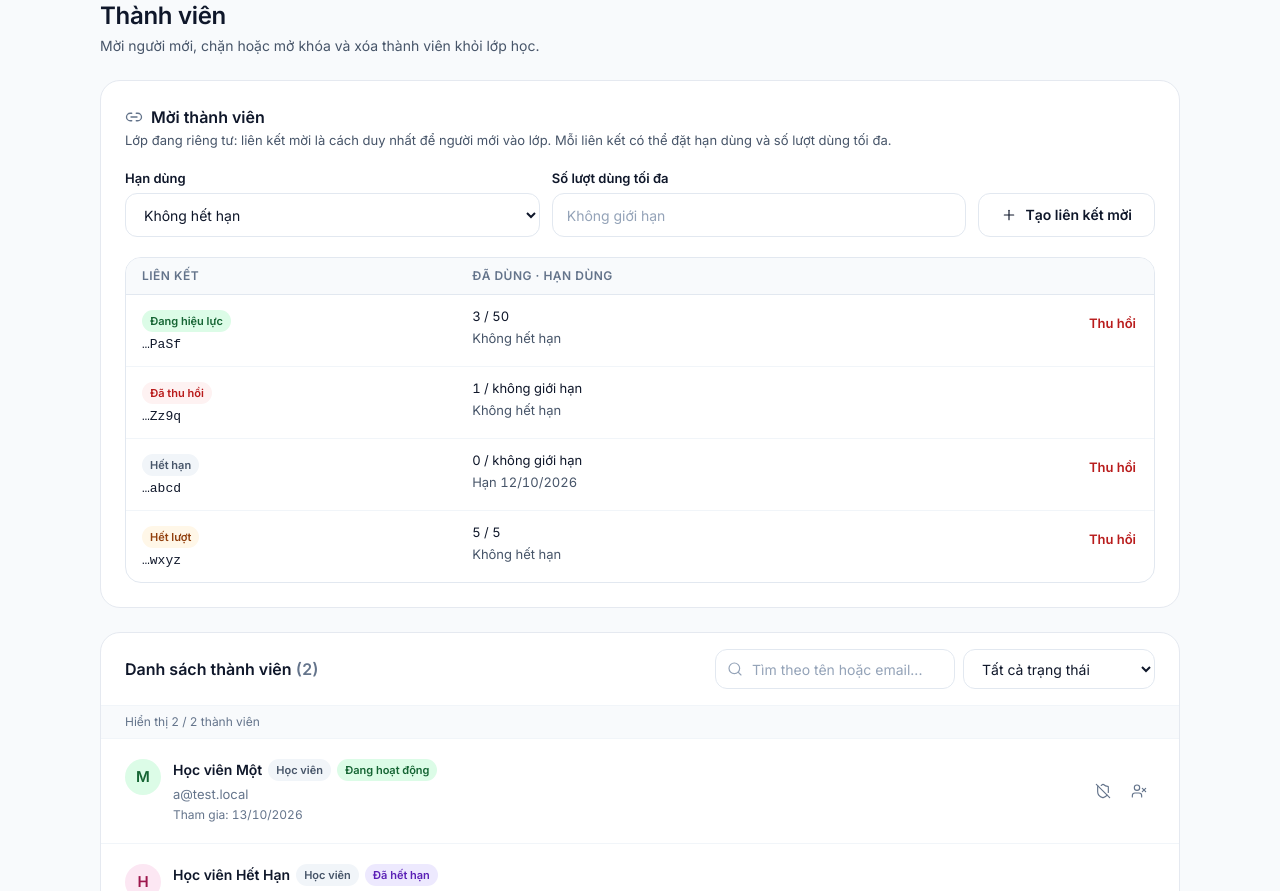
StudioMembers - create an invite › falls back to select-and-execCommand where the Clipboard API is missing
Expected: the table is shown, left=126, top=258, right=1154, bottom=582
What coordinates should you click on to do the following:
click the button "Tạo liên kết mời"
I would click on:
 (1067, 215)
Its box is left=978, top=193, right=1155, bottom=237.
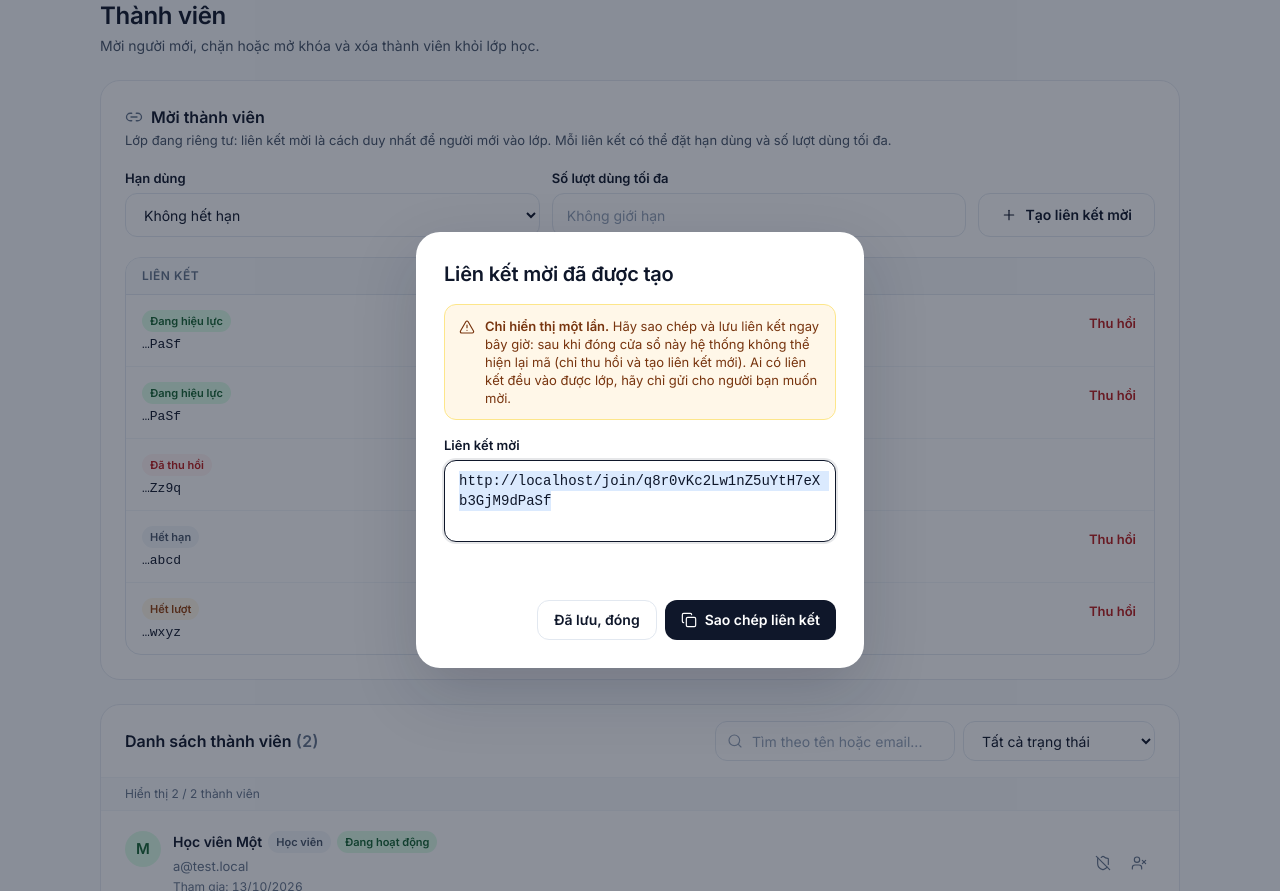
What coordinates should you click on to do the following:
click the button "Sao chép liên kết"
I would click on:
 (750, 620)
Its box is left=665, top=600, right=836, bottom=640.
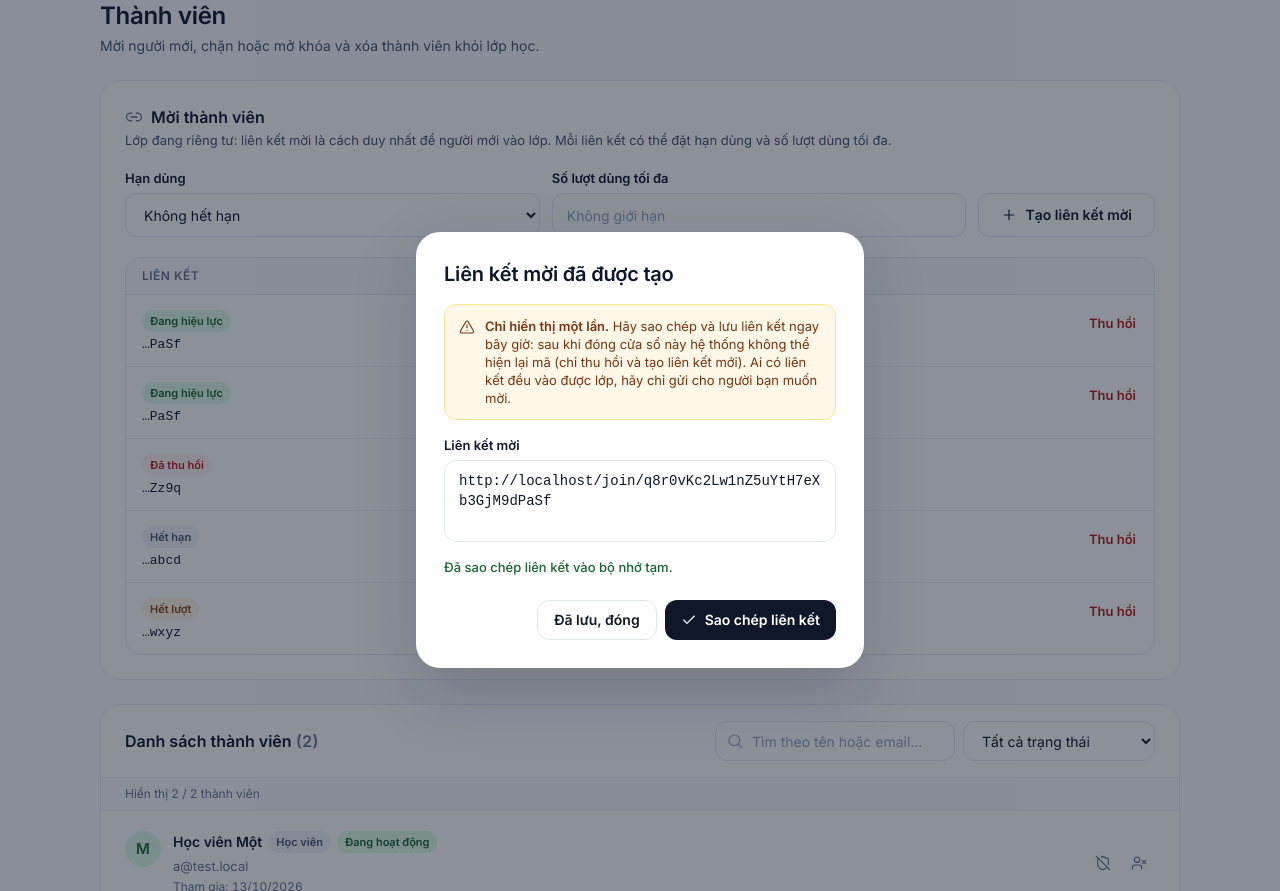
Result: the text "Đã sao chép liên kết vào bộ nhớ tạm." is shown at left=444, top=559, right=673, bottom=575
